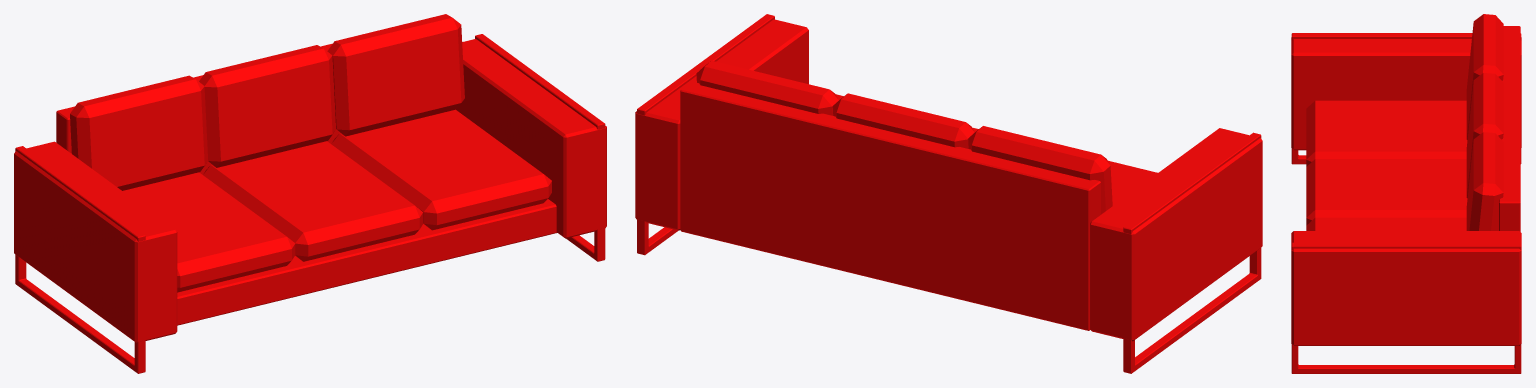
File: Couch_high.fbx
The picture shows the model from 3 angles, left to right: view 1: azimuth 30°, elevation 25°; view 2: azimuth 150°, elevation 25°; view 3: azimuth 270°, elevation 25°; orthographic projection. The views are drawn at different scales.
Visible parts, largest first — view 1: Couch_high; view 2: Couch_high; view 3: Couch_high.
Boxes of the visible parts, box(x1,y1,x2,y2) form: Couch_high: box(14, 14, 606, 373); Couch_high: box(635, 14, 1262, 373); Couch_high: box(1291, 14, 1521, 373).
Bounding box in the file's own units: 33.06 × 12.11 × 14.91.
